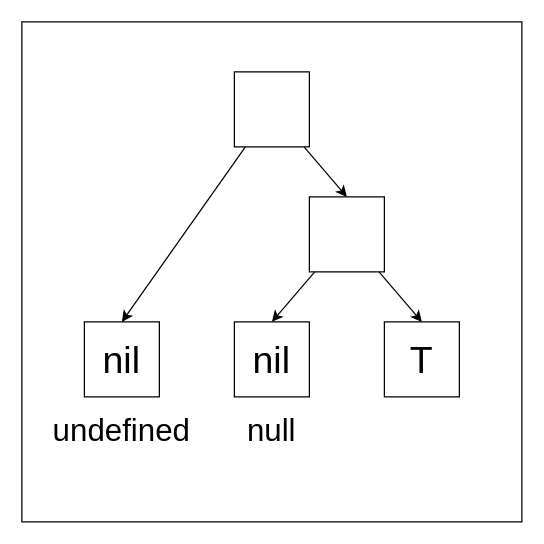
The diagram is 544 pixels wide and 544 high, and some of its shapes have lost their labels. The box of each missing label's shape, as (x1, y1, x2, y2) in pixels:
**T: (233, 71, 309, 147)
*T: (308, 196, 384, 272)
